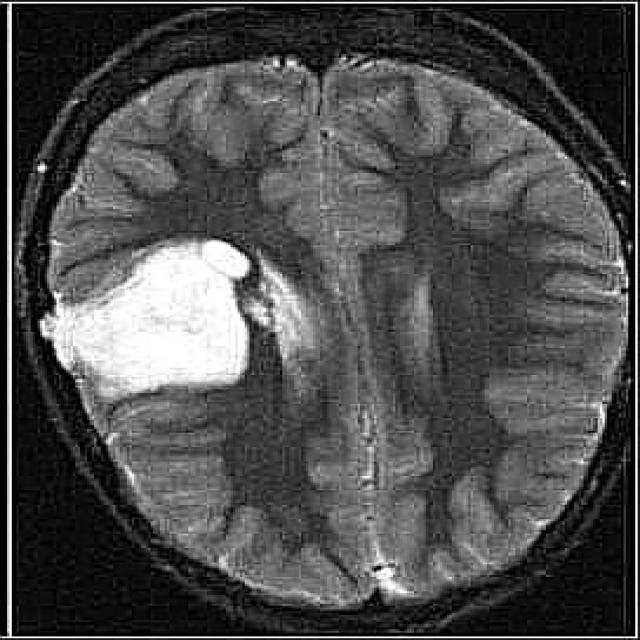Tumor-Cell: (38, 244, 277, 404)
